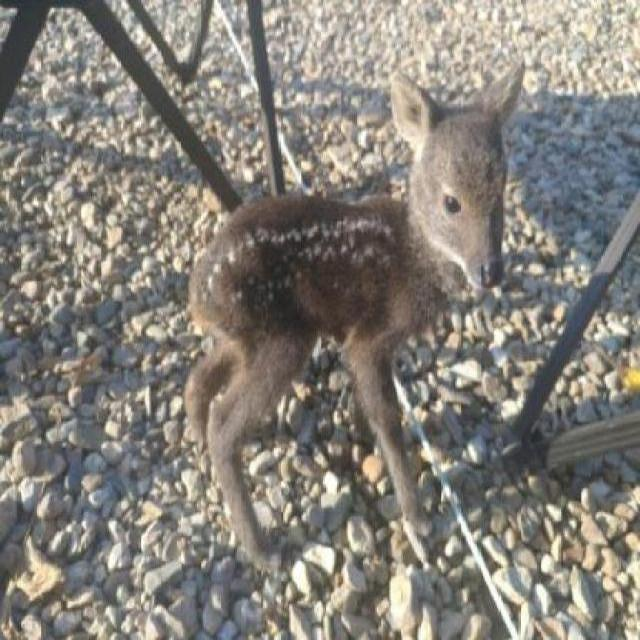deer: (194, 85, 516, 575)
